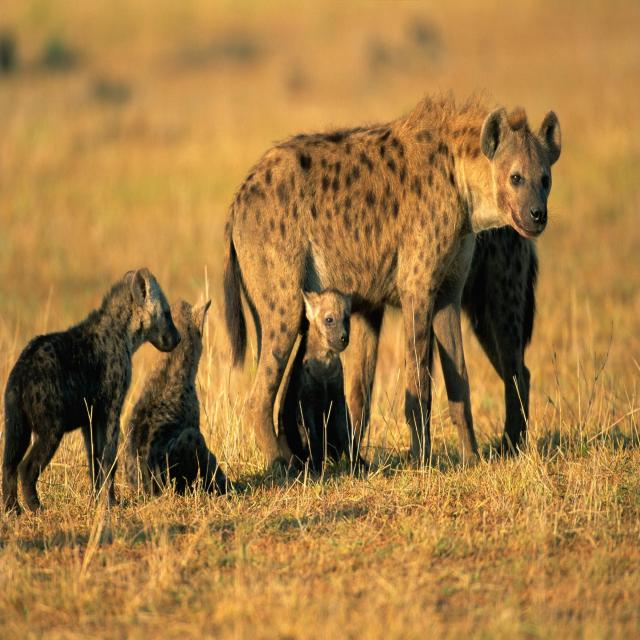Hyena: (225, 90, 562, 486), (0, 266, 182, 529), (278, 287, 357, 482)
